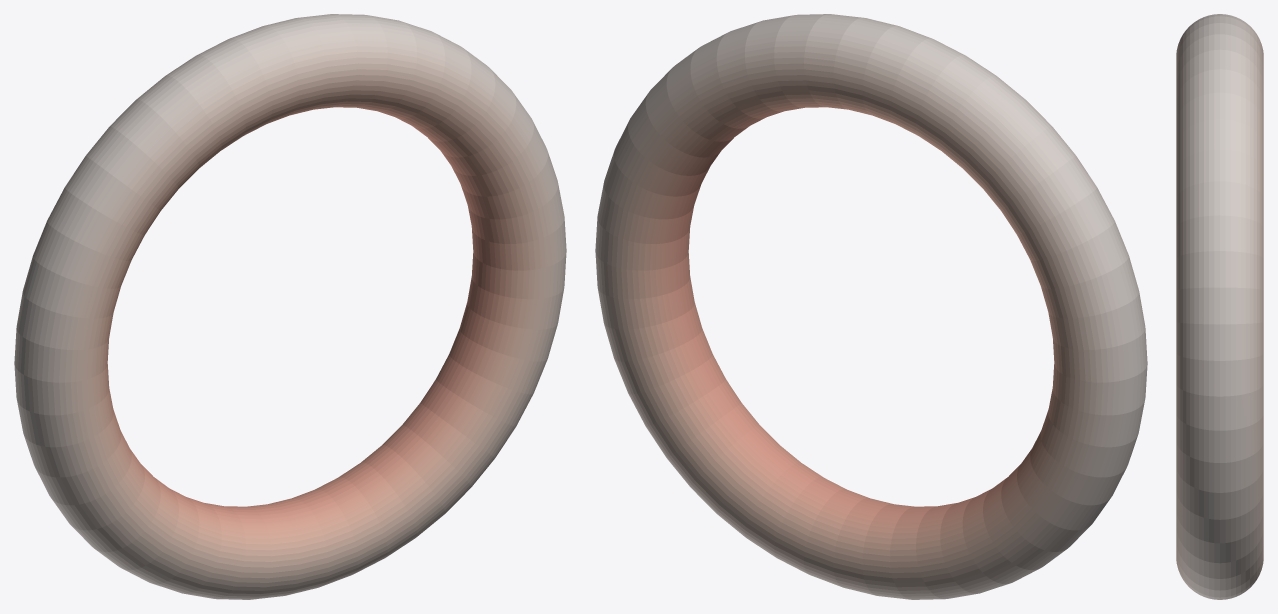
3 views of the same model, side by side, from view 1: azimuth 30°, elevation 25°; view 2: azimuth 150°, elevation 25°; view 3: azimuth 270°, elevation 25° (orthographic). The views are drawn at different scales.
Parts seen in each view (by area): view 1: world; view 2: world; view 3: world.
Part boxes in pixels (left/top/right/bottom): world: left=14, top=14, right=566, bottom=599; world: left=595, top=14, right=1147, bottom=599; world: left=1176, top=14, right=1263, bottom=599.
Size of the model in its own units: 32.93 by 32.87 by 4.92.
